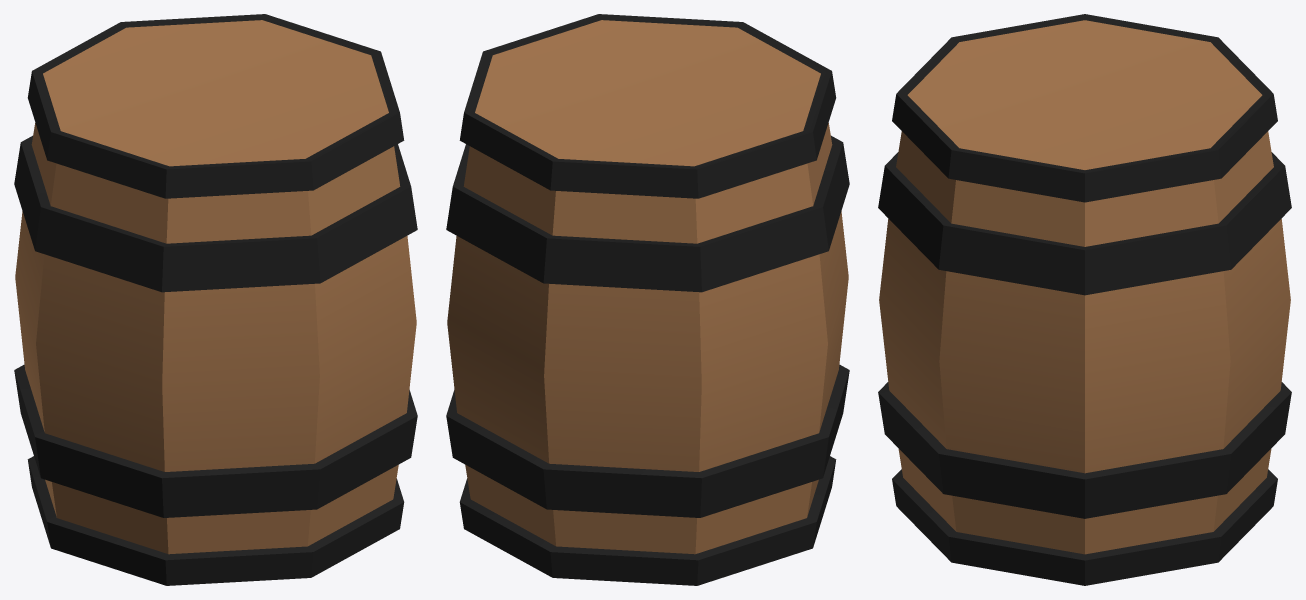
Rendered from barrel.fbx.
3 views of the same model, side by side, from view 1: azimuth 30°, elevation 25°; view 2: azimuth 150°, elevation 25°; view 3: azimuth 270°, elevation 25° (orthographic).
Visible parts, largest first — view 1: pCylinder3; view 2: pCylinder3; view 3: pCylinder3.
Boxes of the visible parts, x1=… form: pCylinder3: x1=14, y1=14, x2=417, y2=585; pCylinder3: x1=446, y1=14, x2=849, y2=585; pCylinder3: x1=878, y1=14, x2=1291, y2=585.
Size of the model in its own units: 3.99 by 4.38 by 3.99.
